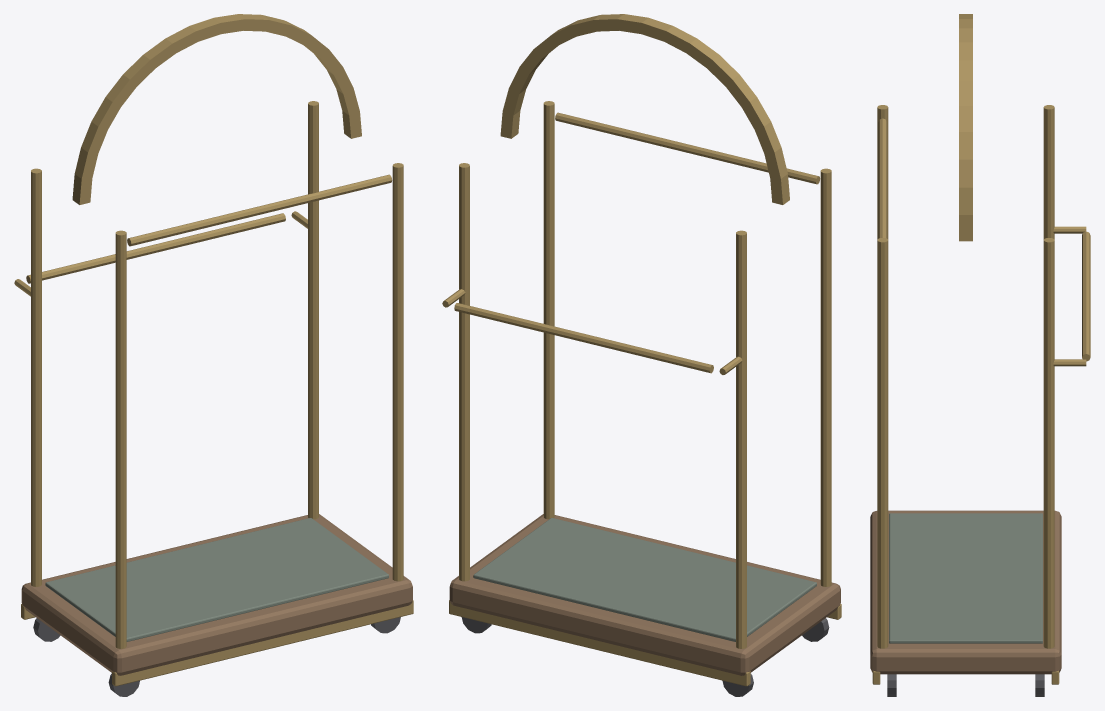
3 renders of one model, left to right at view 1: azimuth 30°, elevation 25°; view 2: azimuth 150°, elevation 25°; view 3: azimuth 270°, elevation 25°, orthographic.
Visible parts, largest first — view 1: bellCart; view 2: bellCart; view 3: bellCart.
Boxes of the visible parts, <box> form: bellCart: <box>14,14,413,696</box>; bellCart: <box>442,14,841,696</box>; bellCart: <box>870,14,1090,696</box>.
Size of the model in its own units: 1.1 by 2.17 by 0.714.
